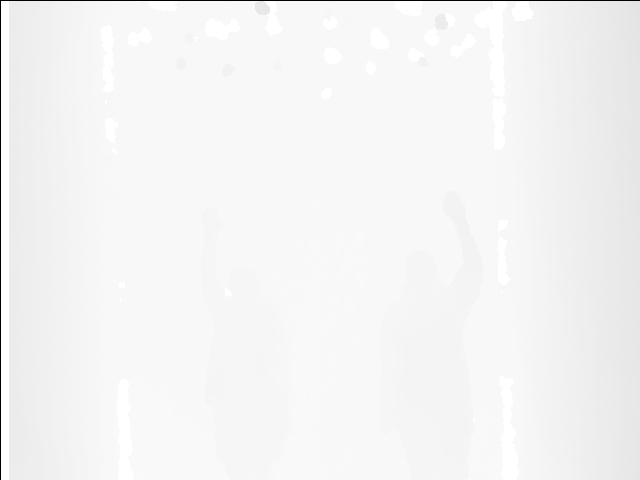hand: (440, 191, 469, 227), (202, 203, 226, 236)
